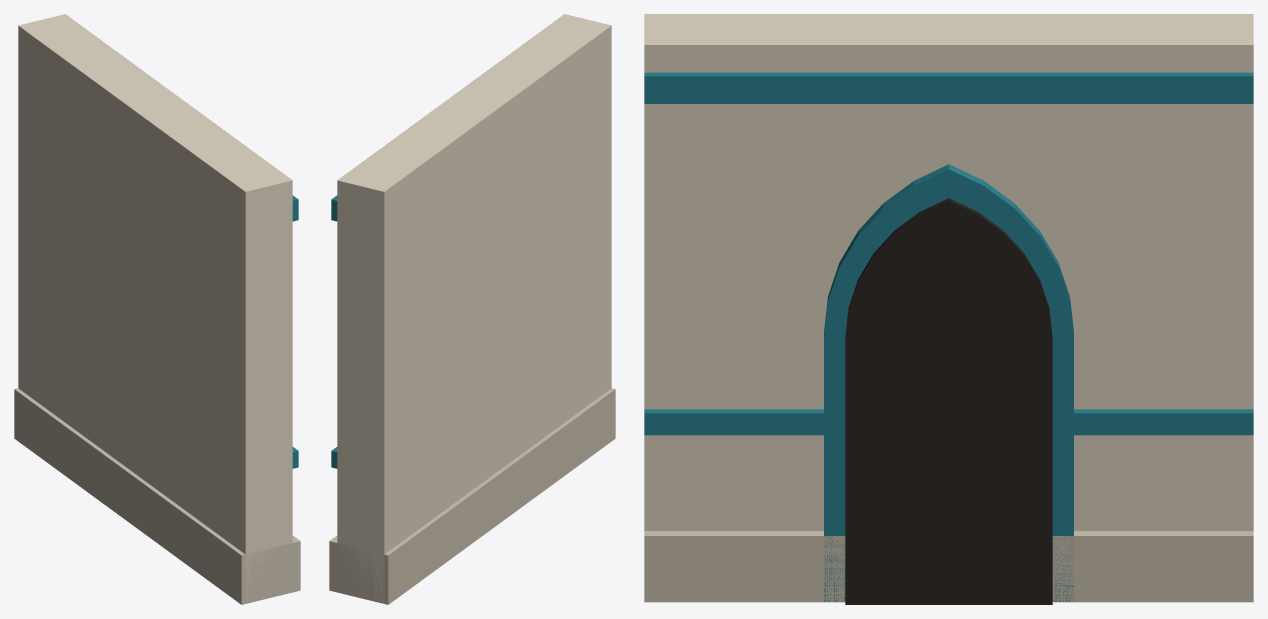
Rendered from wall-door.glb.
3 views of the same model, side by side, from view 1: azimuth 30°, elevation 25°; view 2: azimuth 150°, elevation 25°; view 3: azimuth 270°, elevation 25° (orthographic). The views are drawn at different scales.
Parts seen in each view (by area): view 1: wall-door; view 2: wall-door; view 3: wall-door.
Part boxes in pixels (left/top/right/bottom): wall-door: left=14, top=14, right=300, bottom=604; wall-door: left=329, top=14, right=615, bottom=604; wall-door: left=644, top=14, right=1253, bottom=604.
Size of the model in its own units: 0.16 by 1 by 1.
